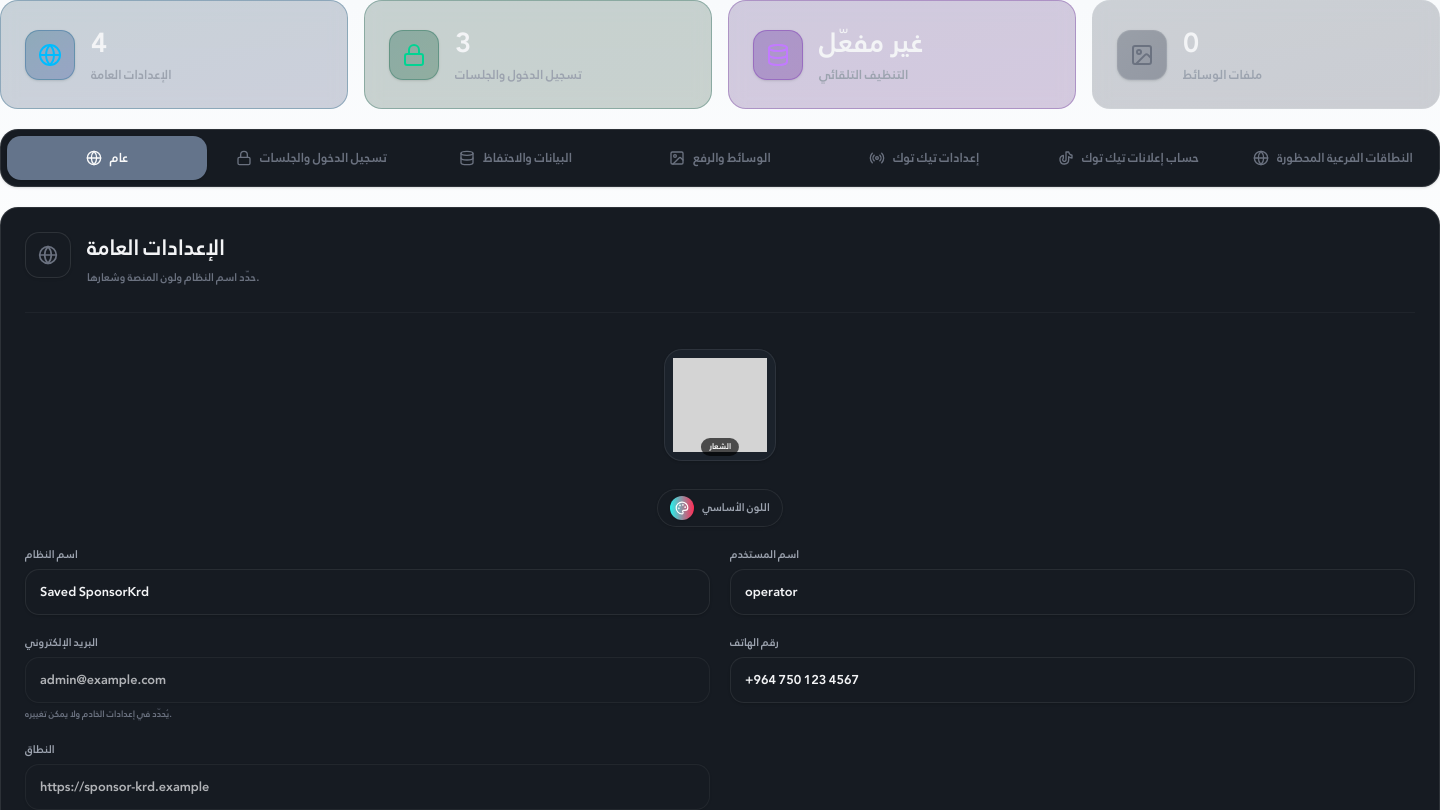
Test: PlatformSettingsPage General tab › localizes retention and media controls and cleanup confirmations
Expected: the 1st field showing "Saved SponsorKrd" is shown, [25,568,710,614]
Step 1. Click the tab "البيانات والاحتفاظ" → (516, 158), box [416,136,616,180]
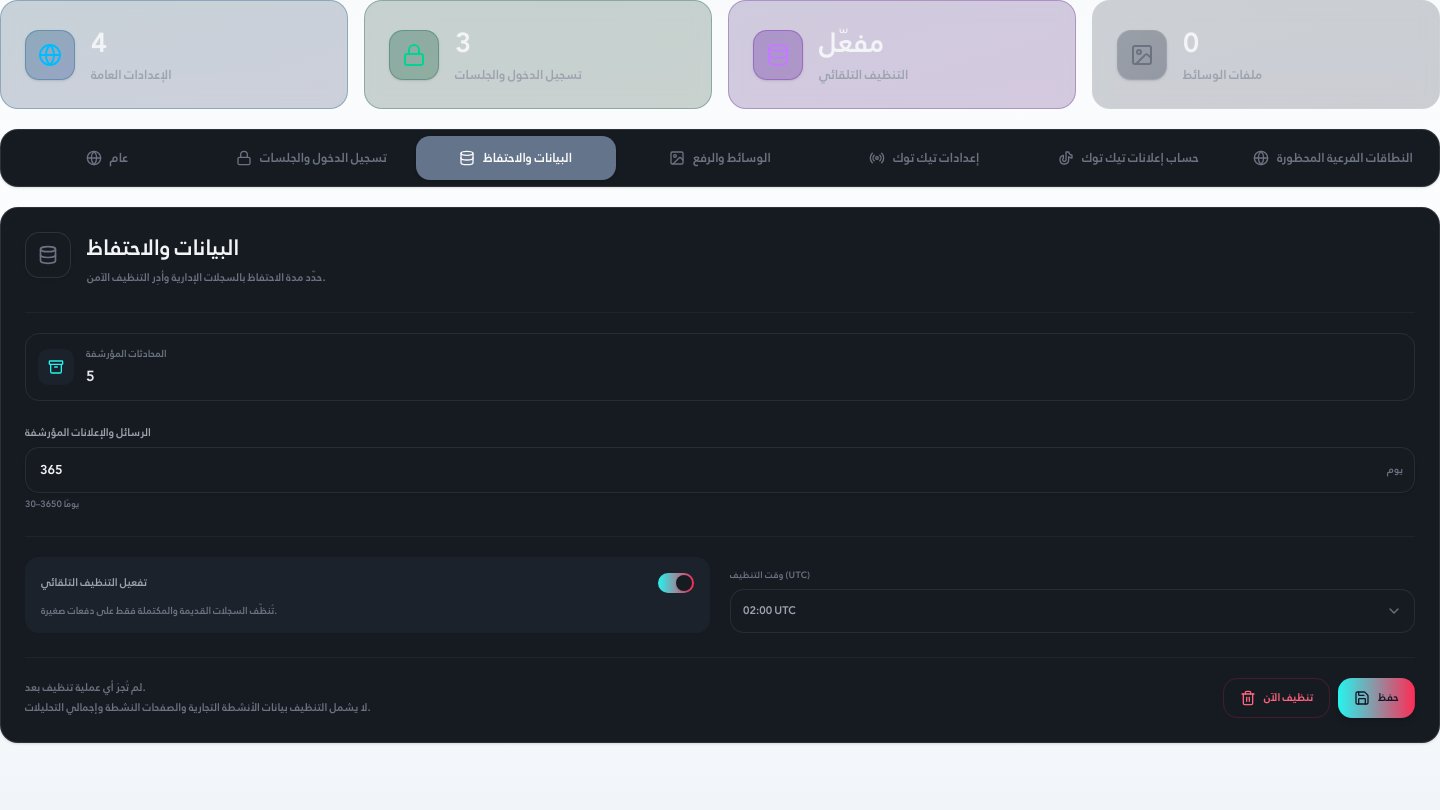
Expected: the text "الرسائل والإعلانات المؤرشفة" is shown, [25,423,151,442]
Step 2. Click the button "تنظيف الآن" → (1277, 698), box [1223,678,1330,718]
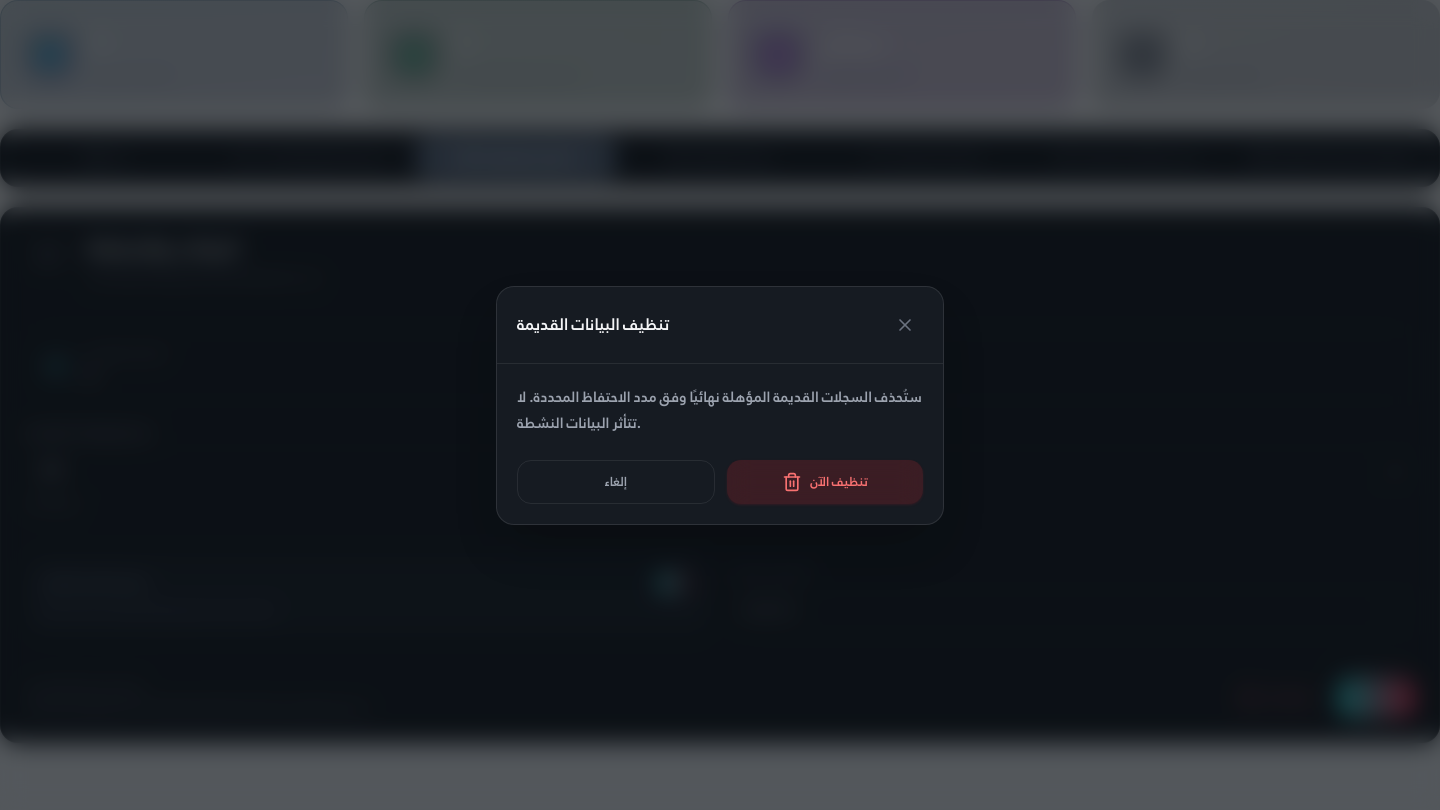
Expected: the heading "تنظيف البيانات القديمة" is shown, [517,310,669,338]
Step 3. Click the button "إلغاء" → (616, 482), box [517,460,715,504]
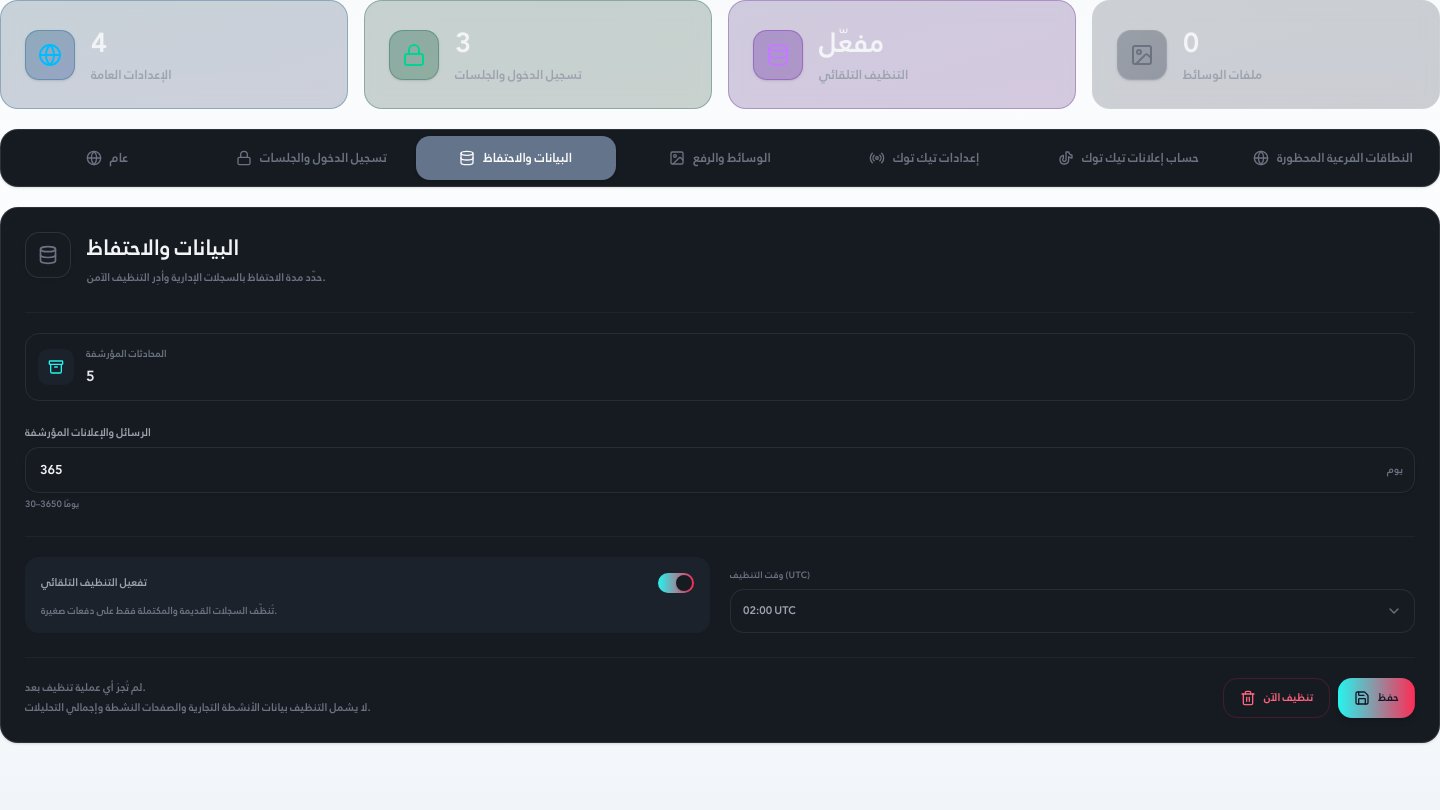
Step 4. Click the tab "الوسائط والرفع" → (720, 158), box [620,136,820,180]
(page scrolled)
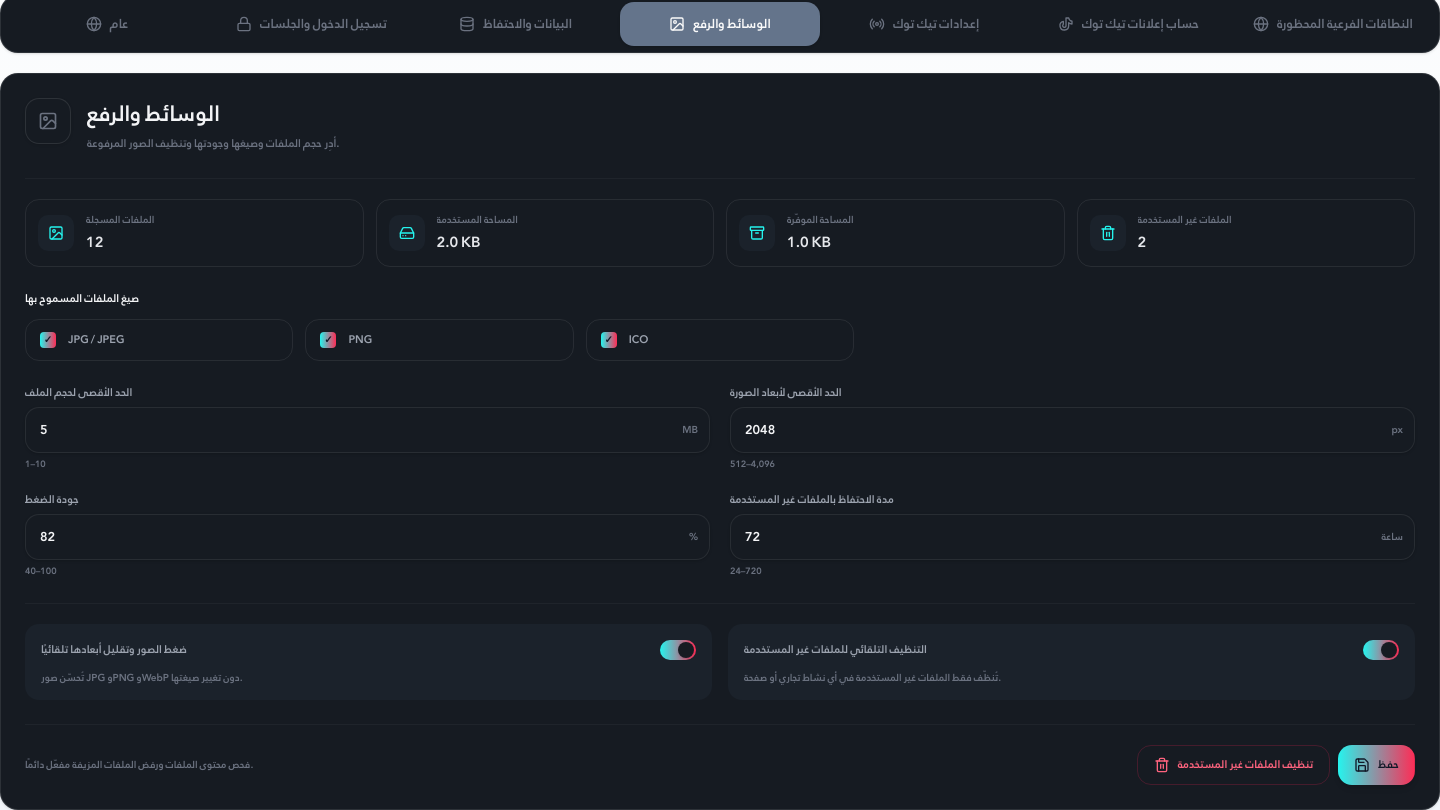
Expected: the text "صيغ الملفات المسموح بها" is shown, [25,289,139,308]
Step 5. Click the button "تنظيف الملفات غير المستخدمة" → (1233, 765), box [1137,745,1330,785]
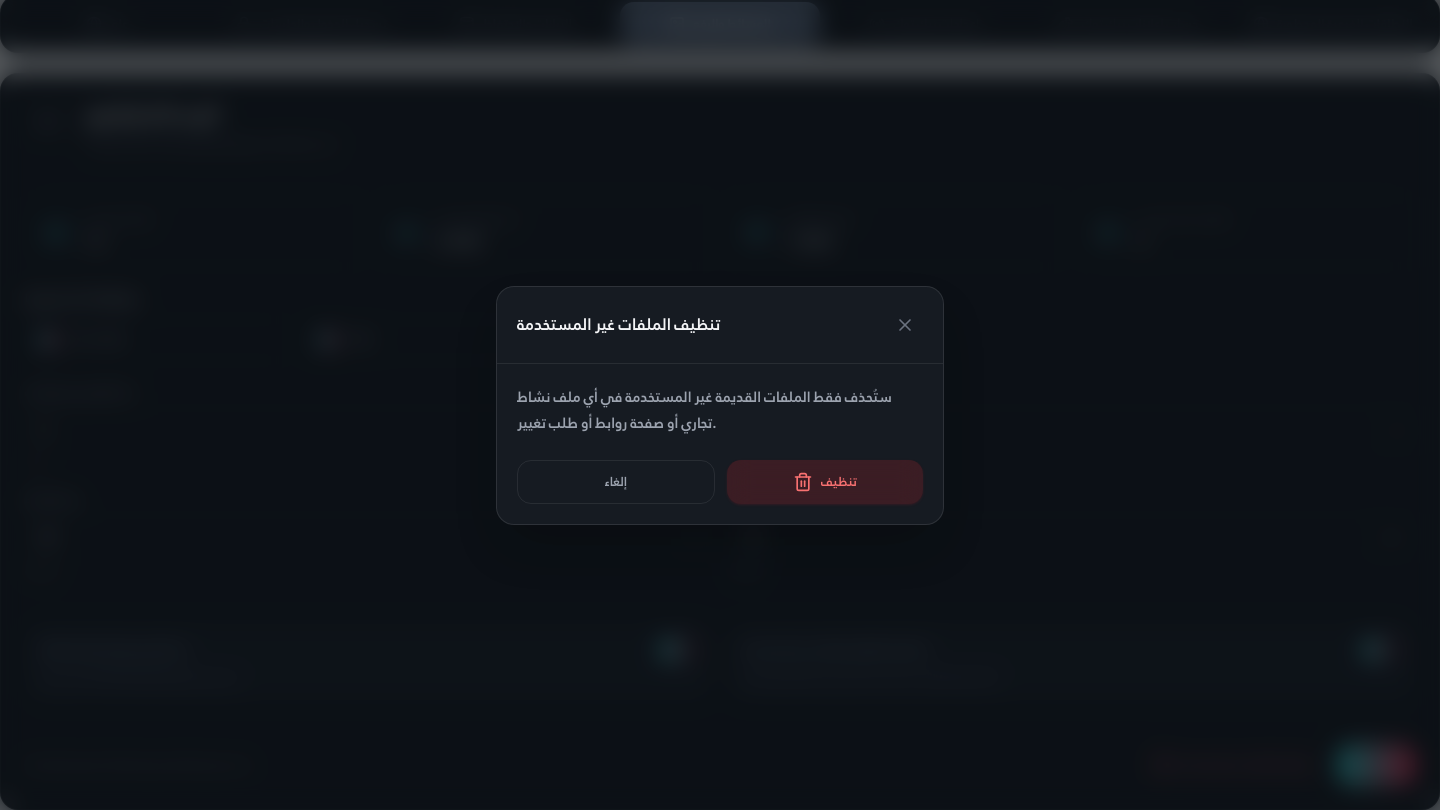
Expected: the text "ستُحذف فقط الملفات القديمة غير المستخدمة في أي ملف نشاط تجاري أو صفحة روابط أو طلب تغيير." is shown, [517,384,892,436]
